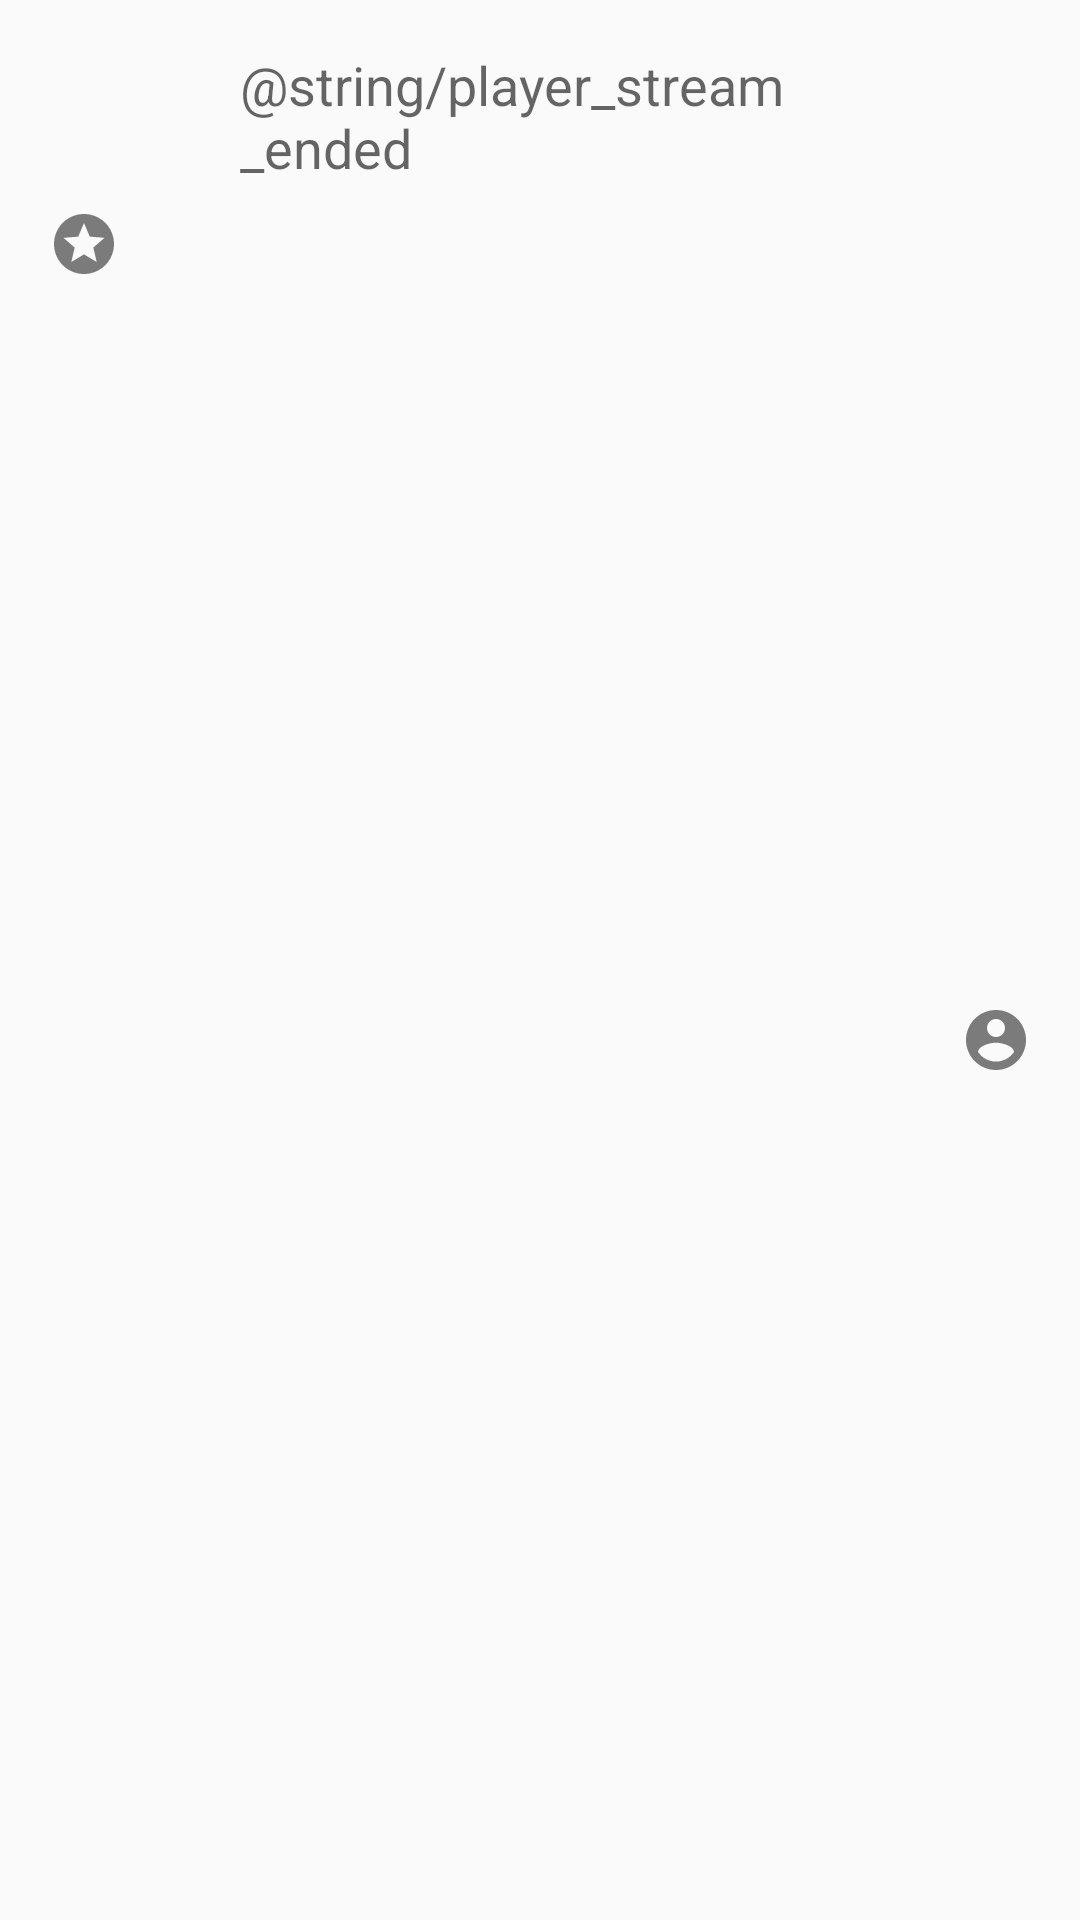

Screen size 1080 x 1920. Icon name, then its box in pixels as bbox=(x1, y1, x2, y2):
top: bbox=(54, 214, 114, 274)
user profile: bbox=(966, 1010, 1026, 1070)
